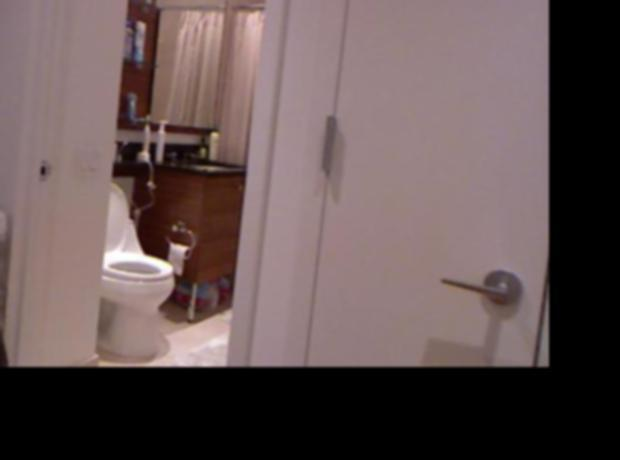Sanitario: (69, 175, 173, 362)
